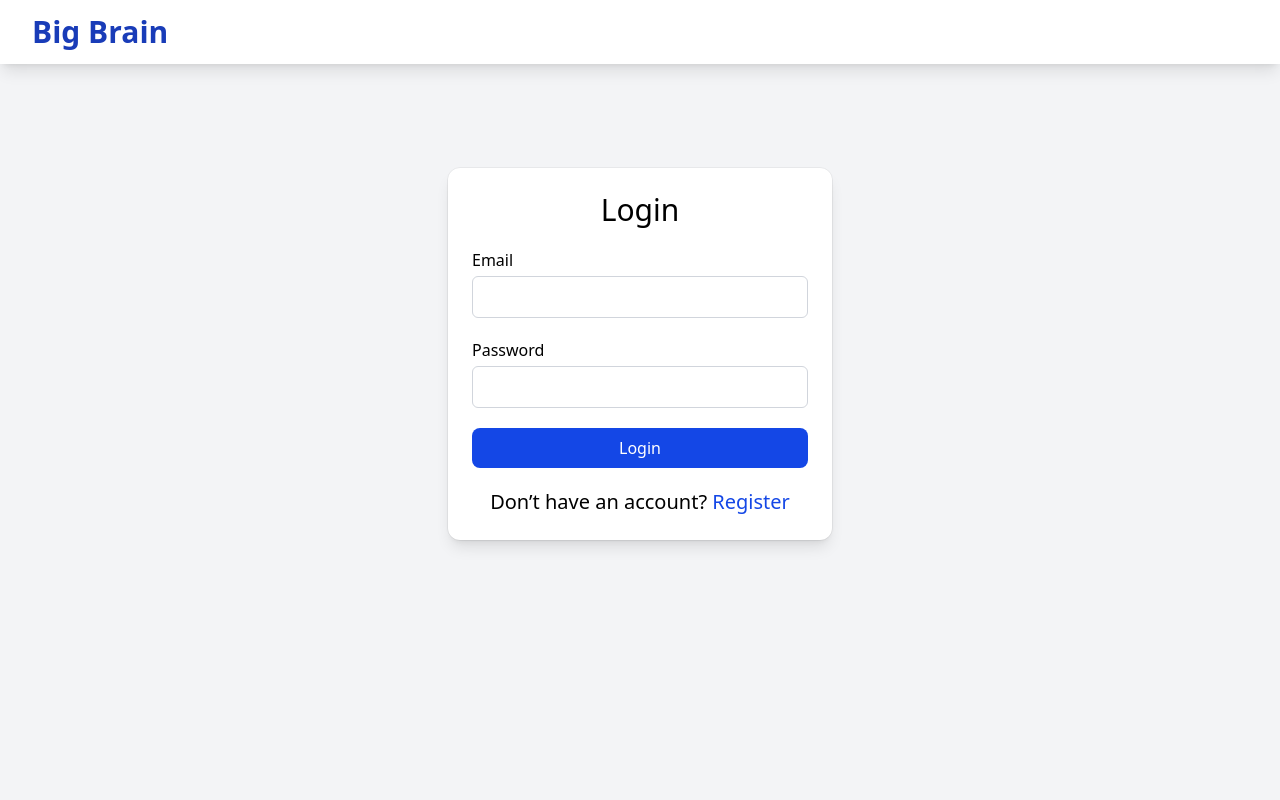
Login Component › Returns an error if incorrect email or password
Type "test@wrong.com" into the field labelled "Email".
click(640, 297); type("test@wrong.com")  # box 472,276 -> 808,318
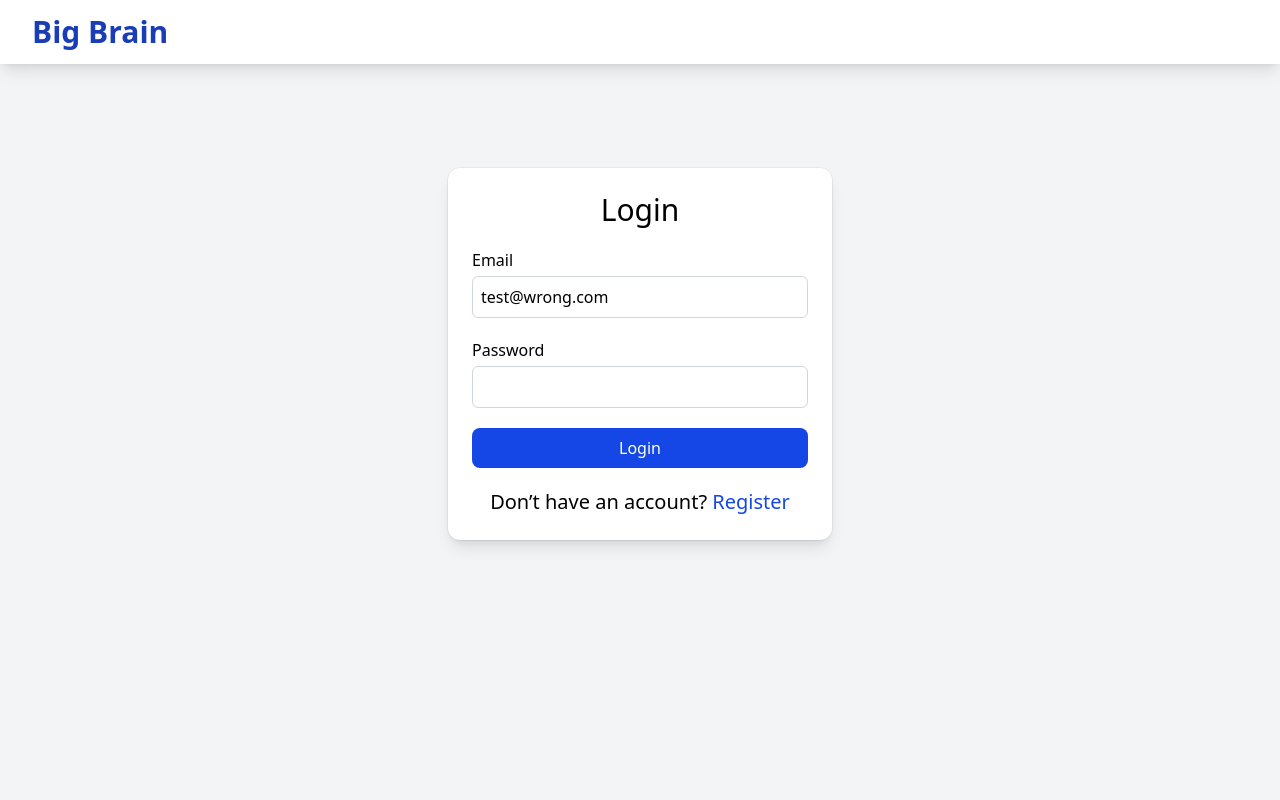
Type "incorrect" into the password field labelled "Password".
click(640, 387); type("incorrect")  # box 472,366 -> 808,408
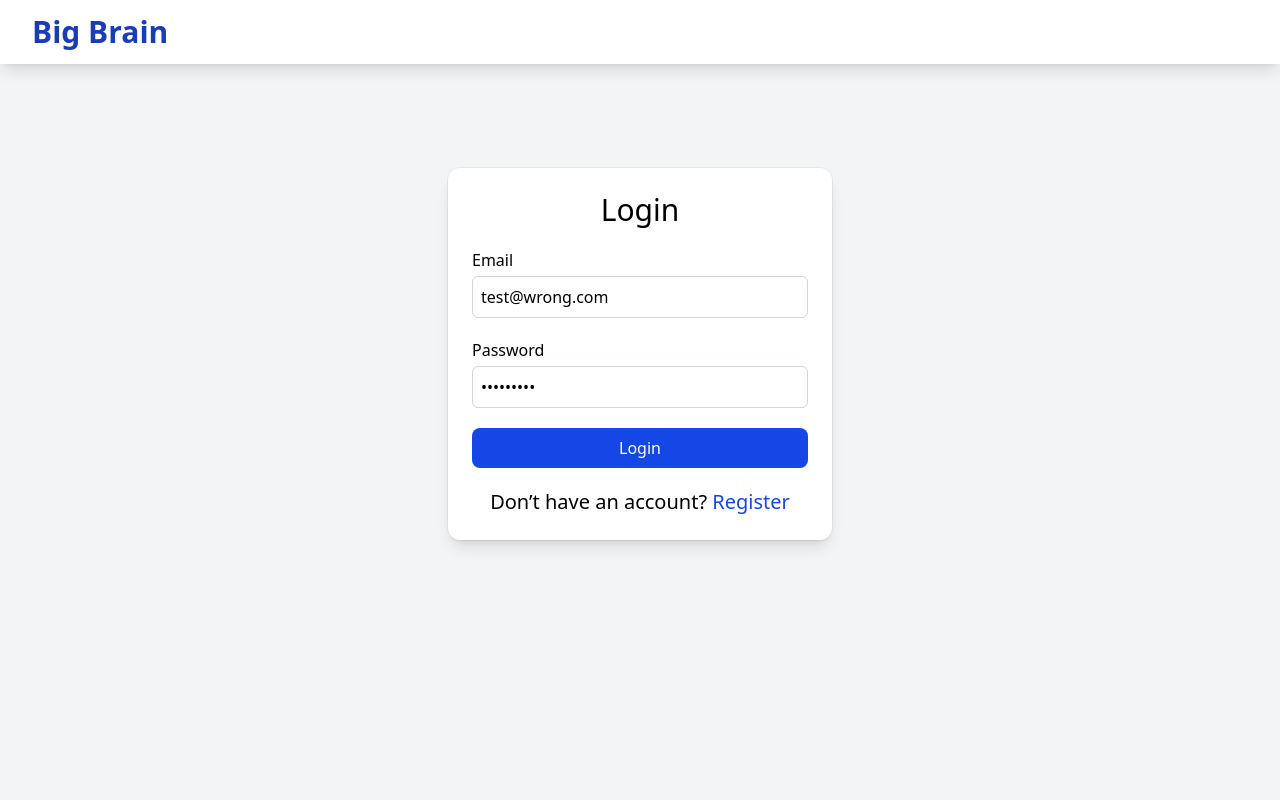
Click the button "Login".
click(640, 448)  # box 472,428 -> 808,468
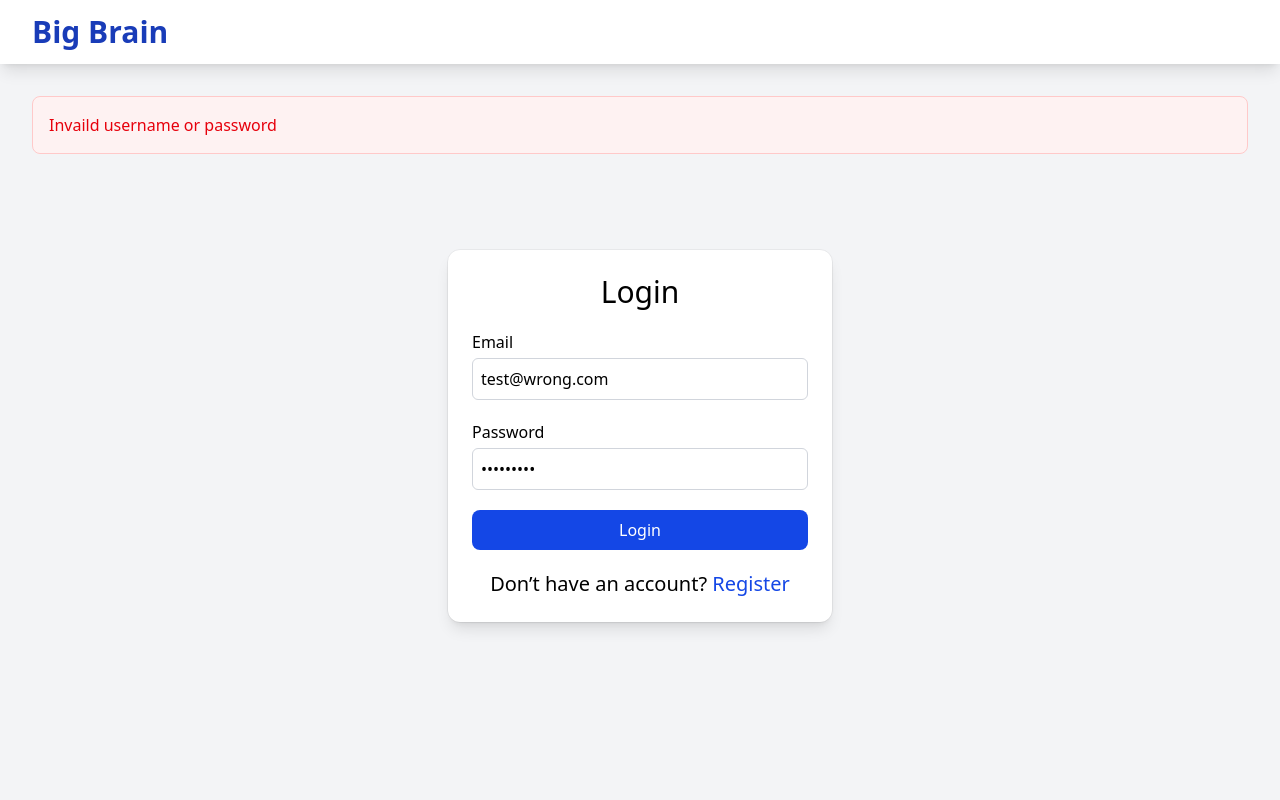
expect the text "Invaild username or password" is shown: met, box 49,114 -> 277,136
